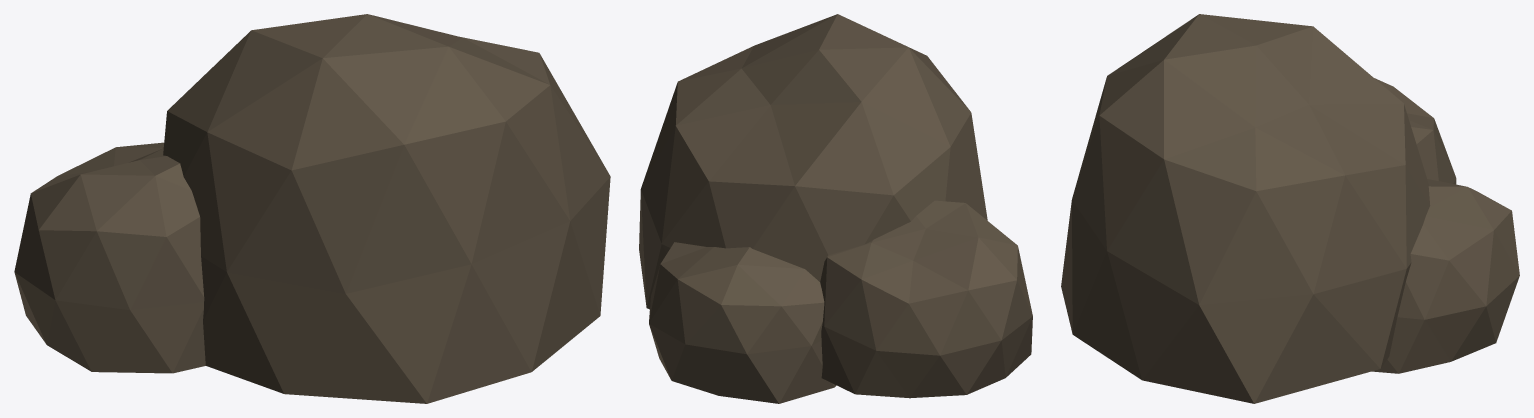
File: roca4.fbx
3 renders of one model, left to right at view 1: azimuth 30°, elevation 25°; view 2: azimuth 150°, elevation 25°; view 3: azimuth 270°, elevation 25°, orthographic. The views are drawn at different scales.
Parts seen in each view (by area): view 1: Icosphere, Icosphere.002; view 2: Icosphere, Icosphere.002, Icosphere.001; view 3: Icosphere, Icosphere.001, Icosphere.002.
Boxes of the visible parts, bbox=[...] form: Icosphere: bbox=[163, 14, 610, 403]; Icosphere.002: bbox=[14, 142, 205, 373]; Icosphere: bbox=[639, 14, 987, 309]; Icosphere.002: bbox=[820, 200, 1032, 398]; Icosphere.001: bbox=[649, 242, 836, 403]; Icosphere: bbox=[1061, 14, 1430, 403]; Icosphere.001: bbox=[1372, 179, 1519, 373]; Icosphere.002: bbox=[1374, 78, 1456, 184].
Bounding box in the file's own units: 281 × 168 × 249.
